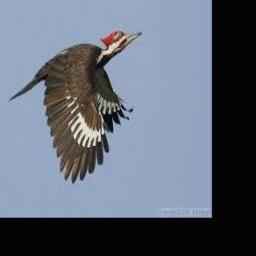Woodpecker: (9, 29, 141, 183)
